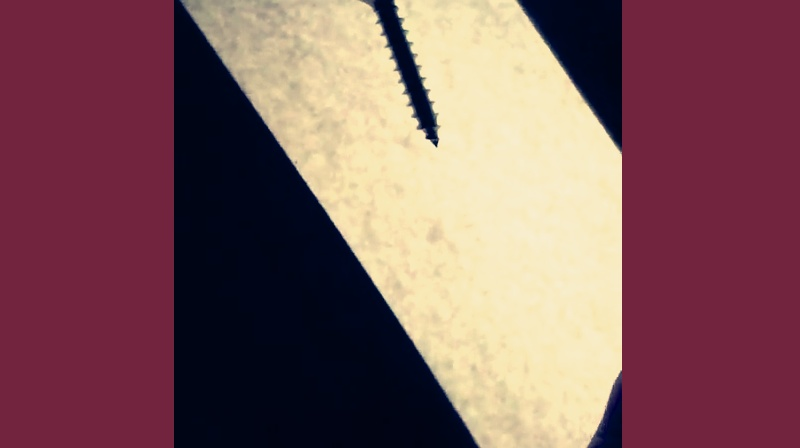S001: (347, 0, 443, 153)
